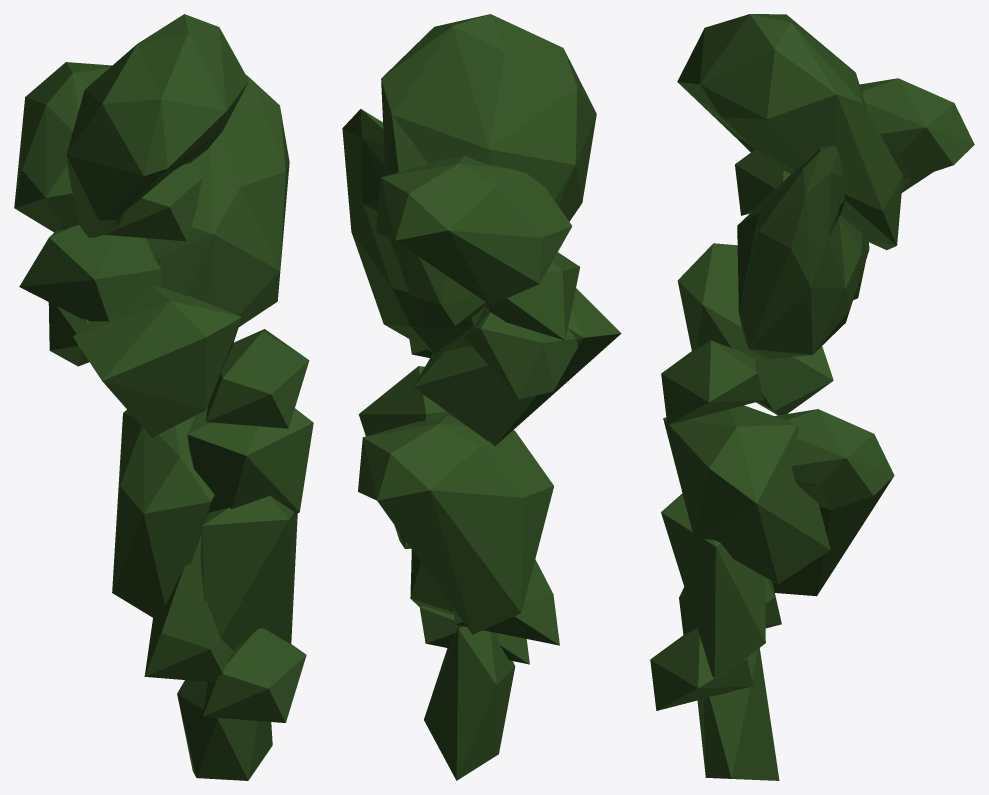
The model's file is SM_bushes_hanging_01.fbx.
The picture shows the model from 3 angles, left to right: view 1: azimuth 30°, elevation 25°; view 2: azimuth 150°, elevation 25°; view 3: azimuth 270°, elevation 25°; orthographic projection.
Visible parts, largest first — view 1: Object143; view 2: Object143; view 3: Object143.
Part boxes in pixels (<box>): Object143: <box>14,14,313,780</box>; Object143: <box>342,14,621,780</box>; Object143: <box>650,14,974,780</box>.
Bounding box in the file's own units: 117 × 338 × 131.
